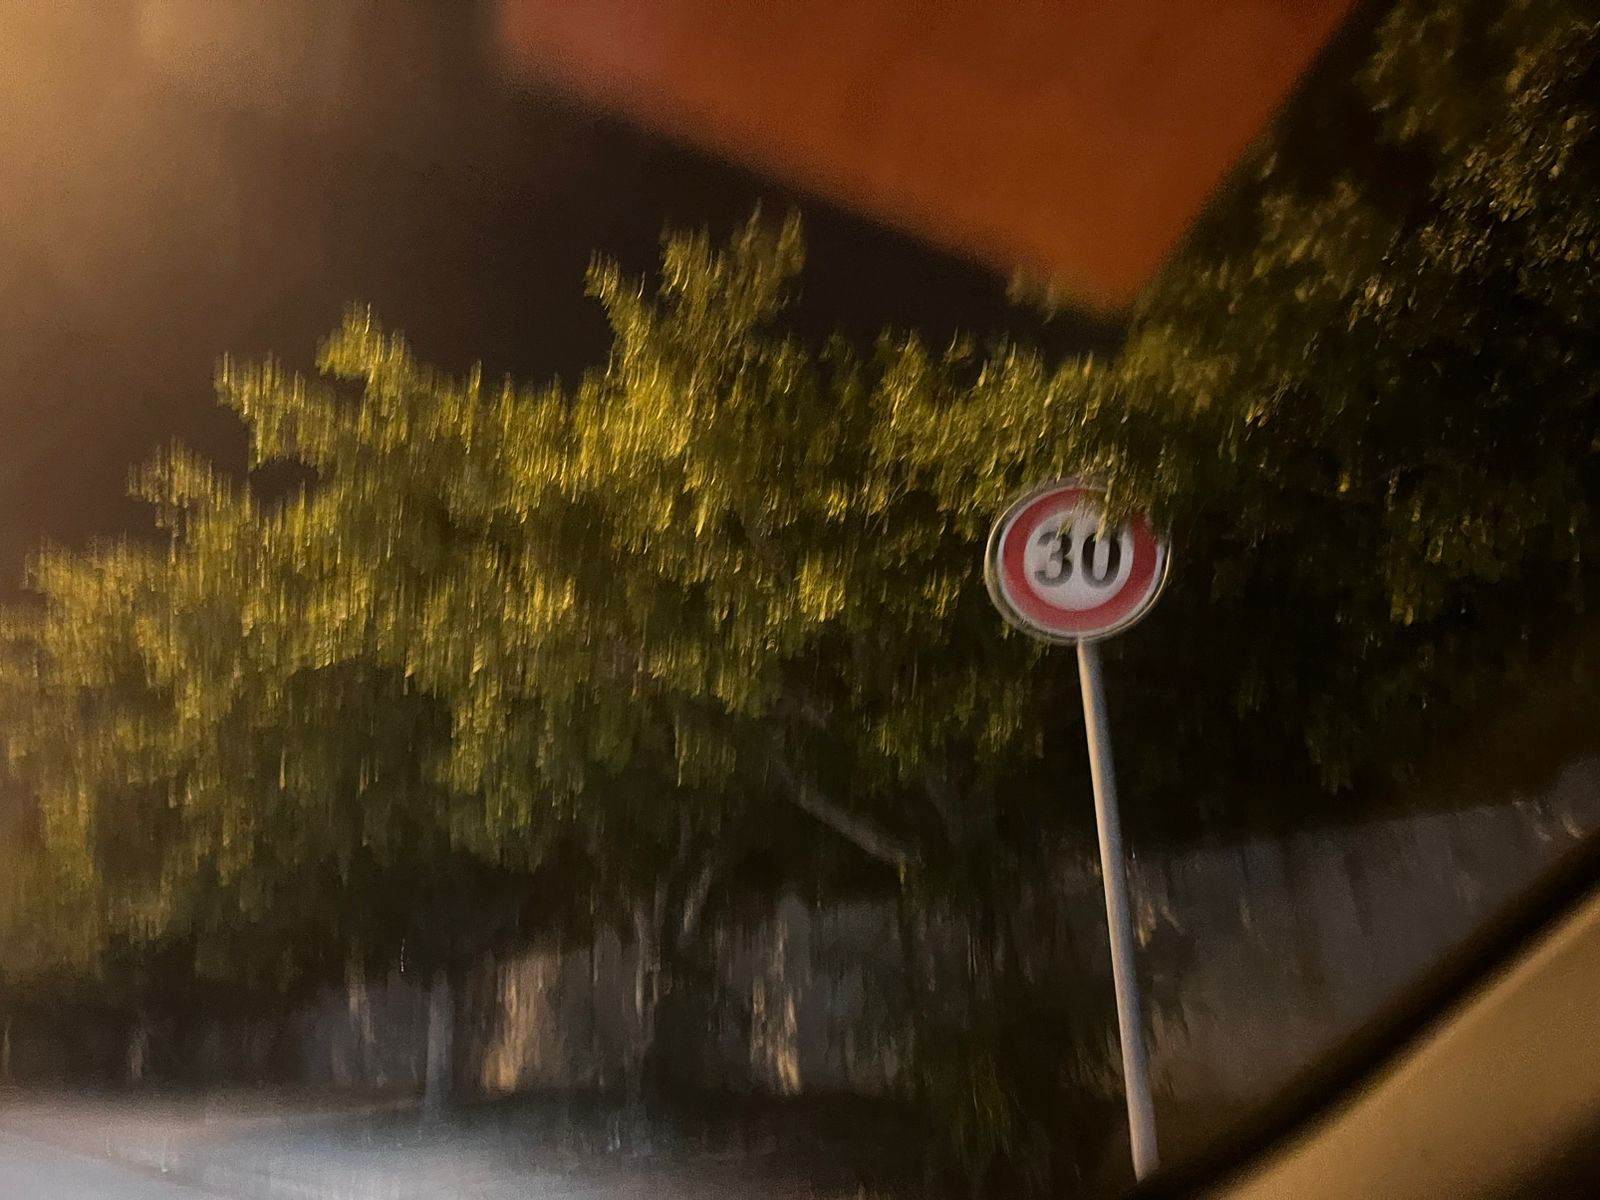SpeedLimit30: (976, 482, 1173, 637)
